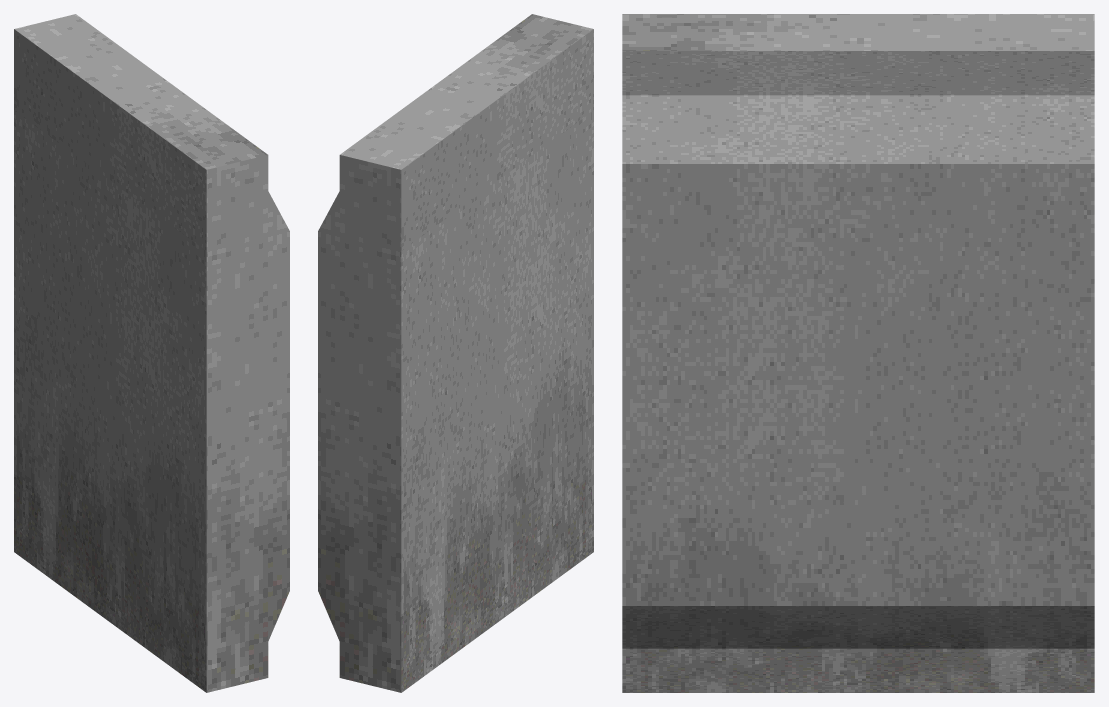
Rendered from Light_Concrete_Fat_wall-col.glb.
The picture shows the model from 3 angles, left to right: view 1: azimuth 30°, elevation 25°; view 2: azimuth 150°, elevation 25°; view 3: azimuth 270°, elevation 25°; orthographic projection. The views are drawn at different scales.
Visible parts, largest first — view 1: Light_Concrete_Fat_wall-col; view 2: Light_Concrete_Fat_wall-col; view 3: Light_Concrete_Fat_wall-col.
Part boxes in pixels (<box>): Light_Concrete_Fat_wall-col: <box>14,14,289,692</box>; Light_Concrete_Fat_wall-col: <box>318,14,593,692</box>; Light_Concrete_Fat_wall-col: <box>622,14,1094,692</box>.
Bounding box in the file's own units: 0.5 × 3 × 2.
1 material, 1 textured.
